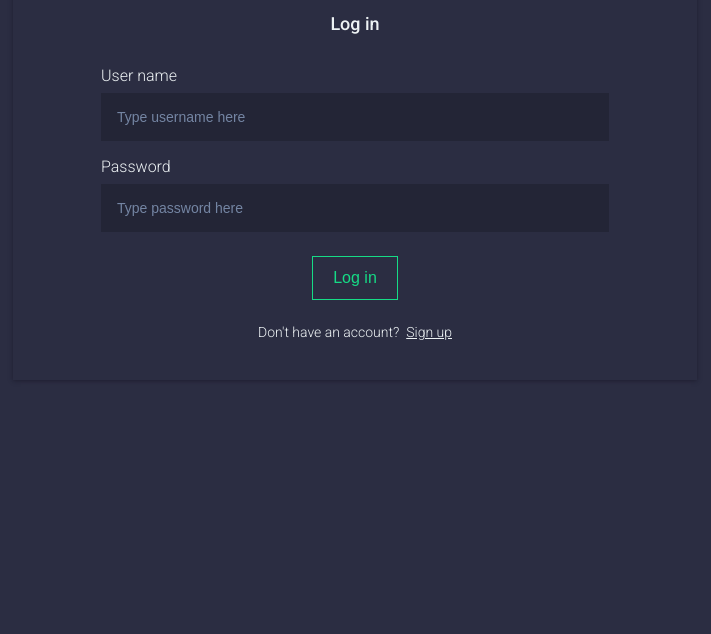
Test case: displays content to redirect to signup page
Expected: the text "Don't have an account?" is shown, [258,324,406,340]
# when clicking on 'Sign up', the linked signup page open
Click the link "Sign up": click(429, 332) [406,324,452,340]
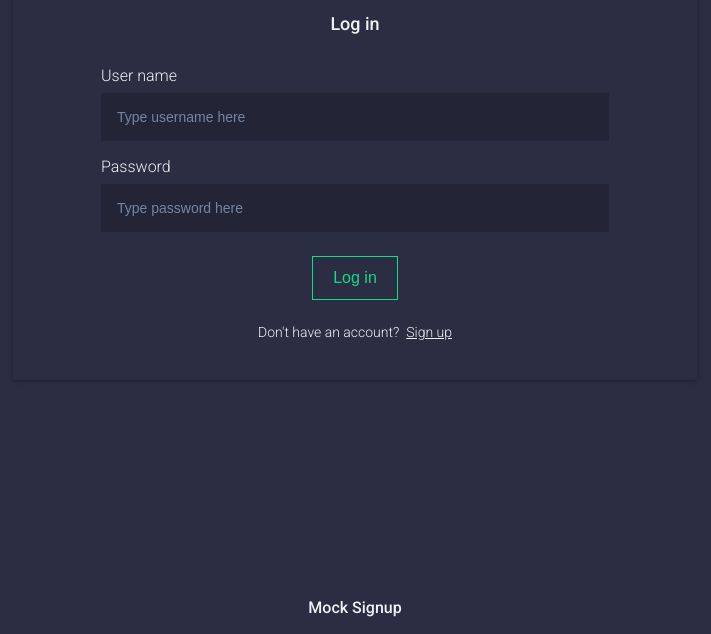
Expected: the text "Mock Signup" is shown, [308,598,402,617]
